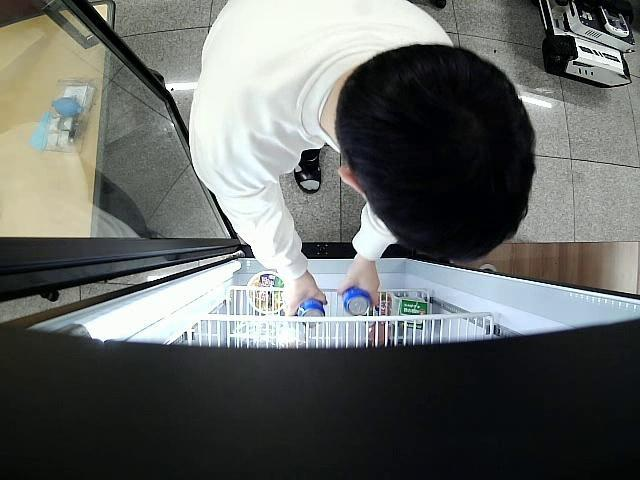13_pocariSweat: (298, 298, 326, 332), (341, 286, 372, 316)
